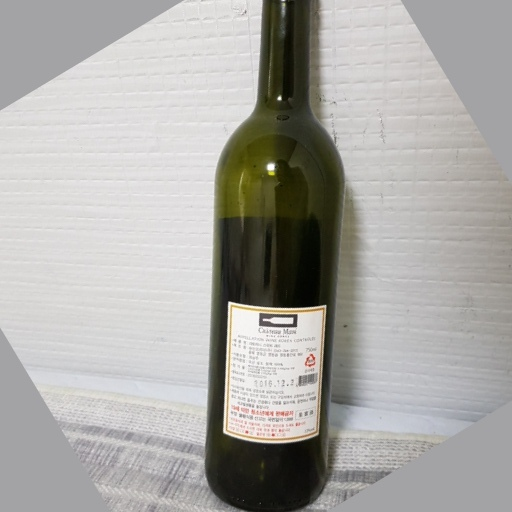Glass_2: (203, 2, 353, 512)
